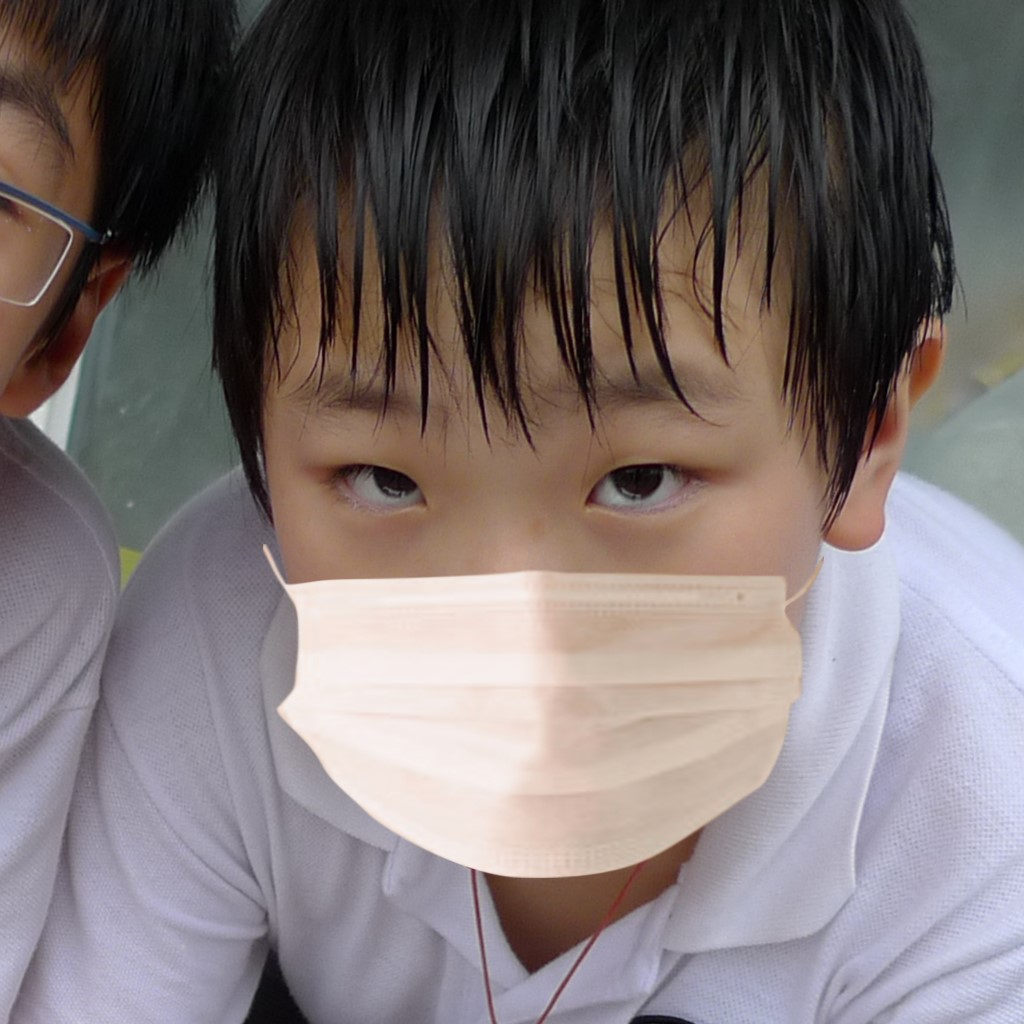con_mascara: (266, 74, 864, 890)
